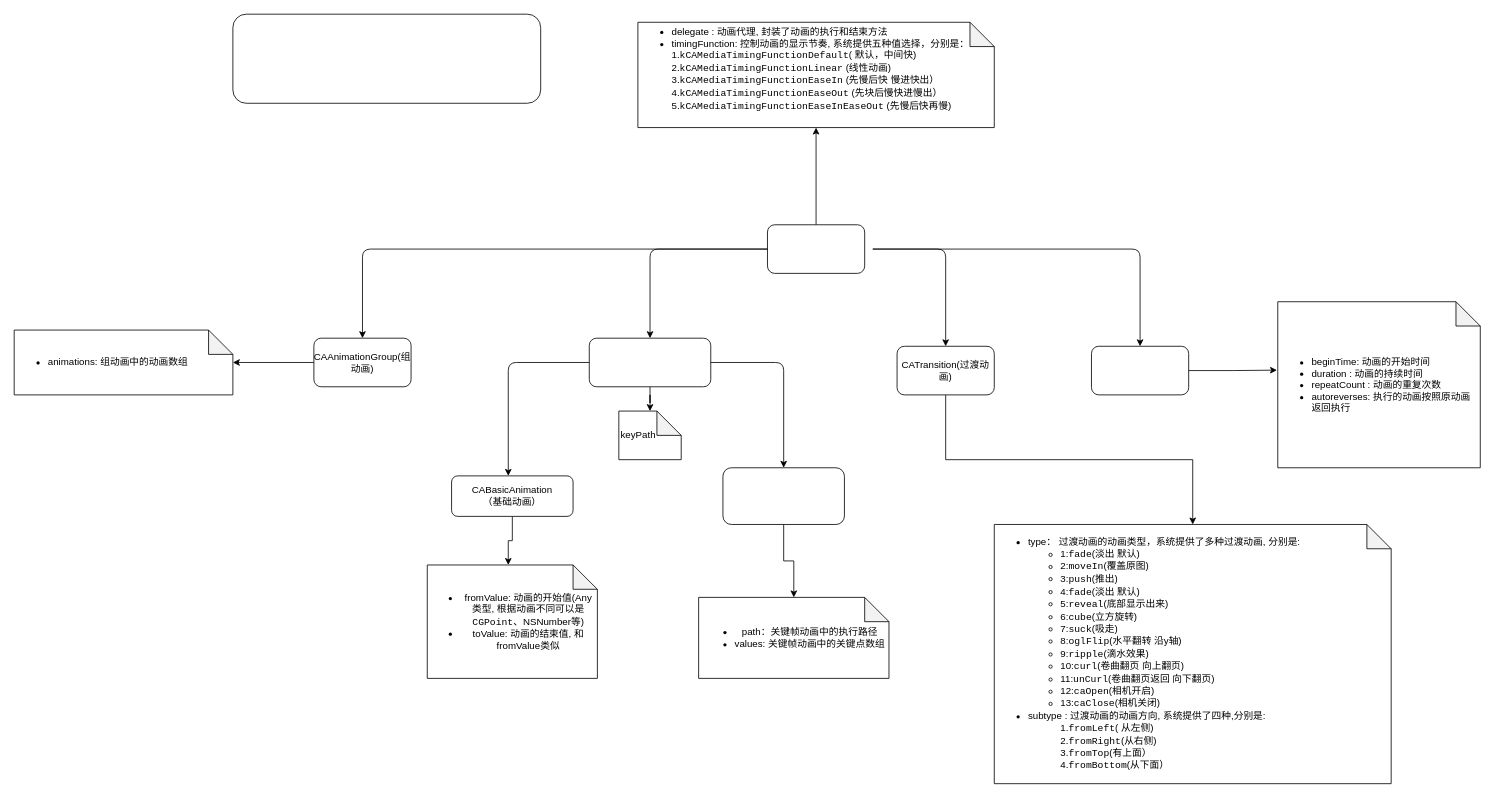
The diagram is 1494 pixels wide and 798 high, and some of its shapes have lost their labels. The centre of each missing label's shape, as x and y in pixels:
"CAAnimation" goes at pixel 816 248.
"CAKeyFrameAnimation(关键帧动画)" goes at pixel 783 495.
"CAMediaTiming" goes at pixel 1140 370.
"CAPropertyAnimation" goes at pixel 649 362.
"iOS动画集锦(Core Animation)" goes at pixel 386 58.
